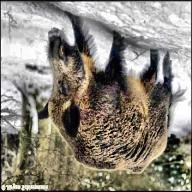boar: (38, 19, 191, 181)
